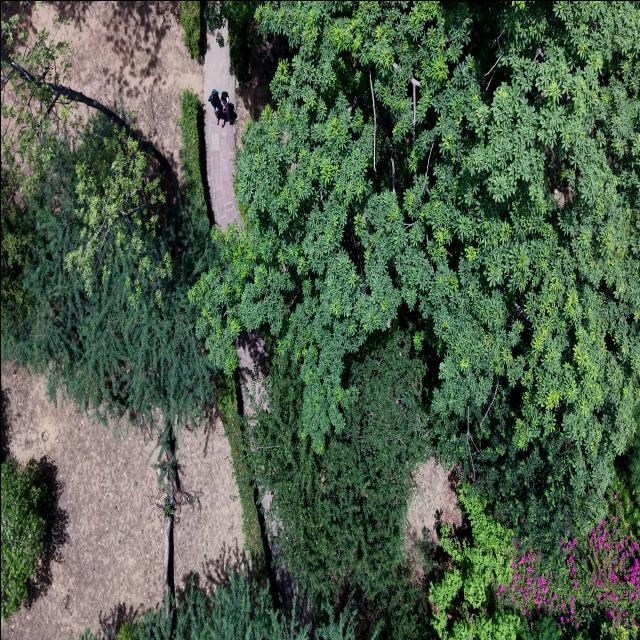DRY_AREA: (1, 364, 163, 639), (1, 365, 163, 639), (1, 364, 162, 639), (25, 1, 203, 175), (203, 28, 287, 227), (204, 28, 287, 228), (203, 27, 286, 227), (204, 27, 282, 228), (203, 27, 280, 228), (235, 30, 291, 147), (407, 456, 462, 544), (205, 103, 241, 228)
VEGETATION_TREE: (1, 1, 639, 639), (194, 3, 639, 562), (190, 2, 639, 514), (3, 38, 217, 639), (3, 37, 218, 483), (1, 34, 215, 428), (78, 381, 355, 639), (4, 117, 213, 425), (244, 324, 429, 638), (116, 379, 312, 639), (78, 459, 356, 639), (249, 326, 428, 597), (78, 422, 299, 639), (431, 382, 606, 565), (429, 486, 638, 639), (1, 10, 168, 193), (428, 486, 612, 639), (495, 436, 639, 627), (44, 124, 171, 302), (79, 574, 426, 639), (79, 574, 407, 639), (496, 485, 639, 626), (80, 574, 355, 639), (429, 488, 530, 639), (79, 574, 298, 639), (1, 14, 76, 192), (218, 376, 269, 584), (334, 559, 432, 639), (1, 459, 46, 620), (180, 1, 257, 80), (1, 176, 30, 339), (202, 1, 258, 81), (180, 90, 210, 237), (180, 1, 206, 63), (621, 432, 639, 499)
